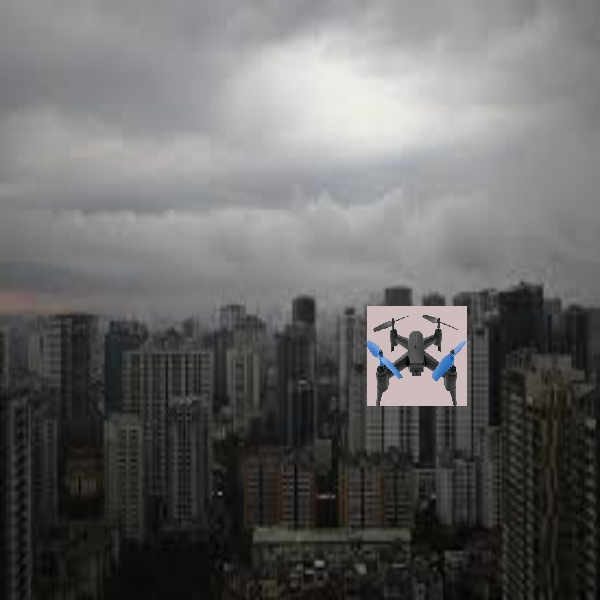drone: (366, 303, 467, 408)
